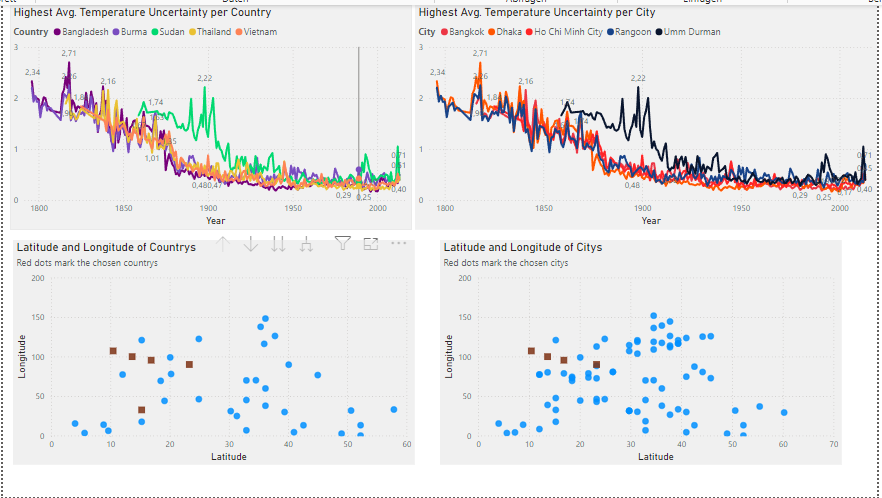

What the dashboard file says about the page in this screenshot:
{"tool":"powerbi","page":{"name":"Uncertainty Temperature","canvas":[1280,720],"ordinal":0},"visuals":[{"type":"lineChart","title":"Highest Avg. Temperature Uncertainty per Country","fields":{"Category":["GlobalTempData.Datum.Variation.Datumshierarchie.Jahr","GlobalTempData.Datum.Variation.Datumshierarchie.Quartal","GlobalTempData.Datum.Variation.Datumshierarchie.Monat","GlobalTempData.Datum.Variation.Datumshierarchie.Tag"],"Y":["Median(GlobalTempData.AverageTemperatureUncertainty)"],"Series":["GlobalTempData.Country"]},"box":[10.1,0,587.9,329.2],"z":0},{"type":"lineChart","title":"Highest Avg. Temperature Uncertainty per City","fields":{"Category":["GlobalTempData.Datum.Variation.Datumshierarchie.Jahr","GlobalTempData.Datum.Variation.Datumshierarchie.Quartal","GlobalTempData.Datum.Variation.Datumshierarchie.Monat","GlobalTempData.Datum.Variation.Datumshierarchie.Tag"],"Y":["Median(GlobalTempData.AverageTemperatureUncertainty)"],"Series":["GlobalTempData.City"]},"box":[603,0,677,329.2],"z":1000},{"type":"scatterChart","title":"Latitude and Longitude of Citys ","fields":{"X":["Avg(GlobalTempData.Latitude)"],"Y":["Avg(GlobalTempData.Longitude)"],"Category":["GlobalTempData.City"]},"box":[640,344.4,587.9,329.2],"z":1001},{"type":"scatterChart","title":"Latitude and Longitude of Countrys","fields":{"X":["Avg(GlobalTempData.Latitude)"],"Y":["Avg(GlobalTempData.Longitude)"],"Category":["GlobalTempData.Country"]},"box":[15.1,344.4,587.9,329.2],"z":1002}]}

Visuals, with their boxes in screenshot pixels (x1, y1, x2, y2), scaled from the page's 1280x720 canvas onto the 882x498 screenshot:
"Highest Avg. Temperature Uncertainty per Country" lineChart: (left=7, top=0, right=412, bottom=228)
"Highest Avg. Temperature Uncertainty per City" lineChart: (left=416, top=0, right=881, bottom=228)
"Latitude and Longitude of Citys " scatterChart: (left=441, top=238, right=846, bottom=466)
"Latitude and Longitude of Countrys" scatterChart: (left=10, top=238, right=416, bottom=466)
